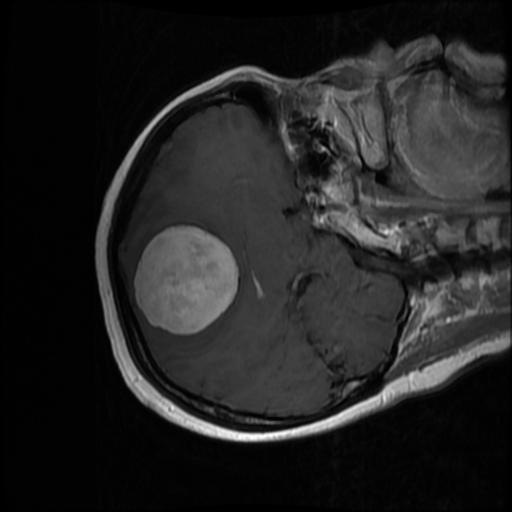meningioma: (134, 224, 240, 336)
